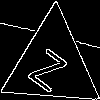Z: (27, 39, 73, 94)
